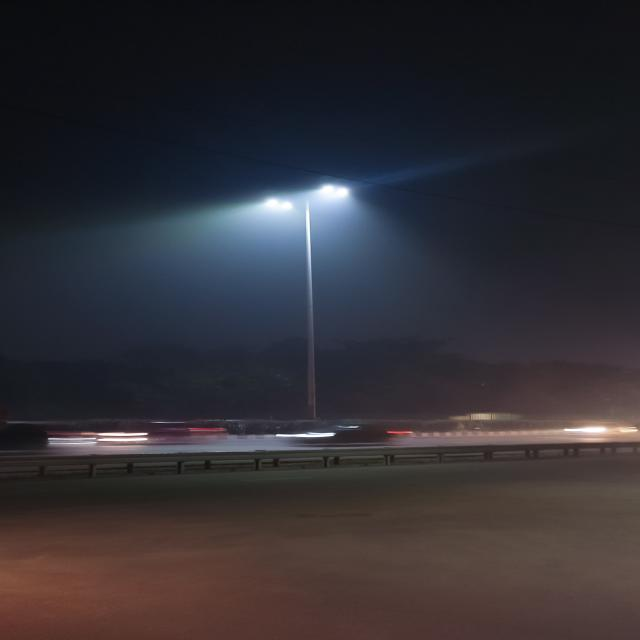Street Light: (264, 183, 352, 421)
